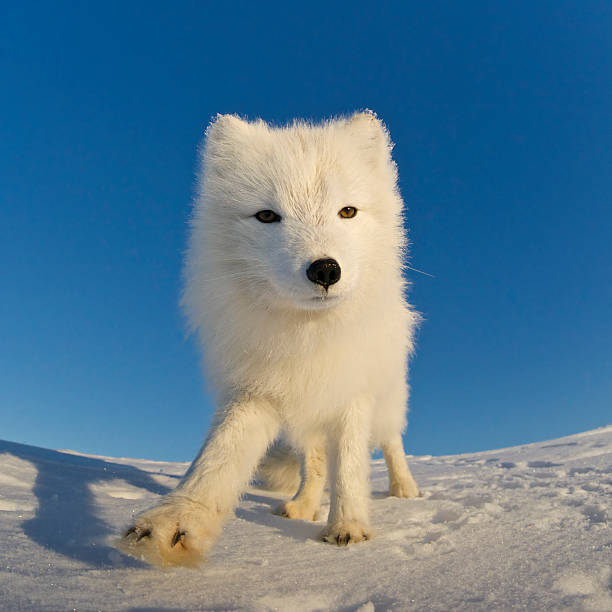arcticfox: (223, 155, 393, 328)
